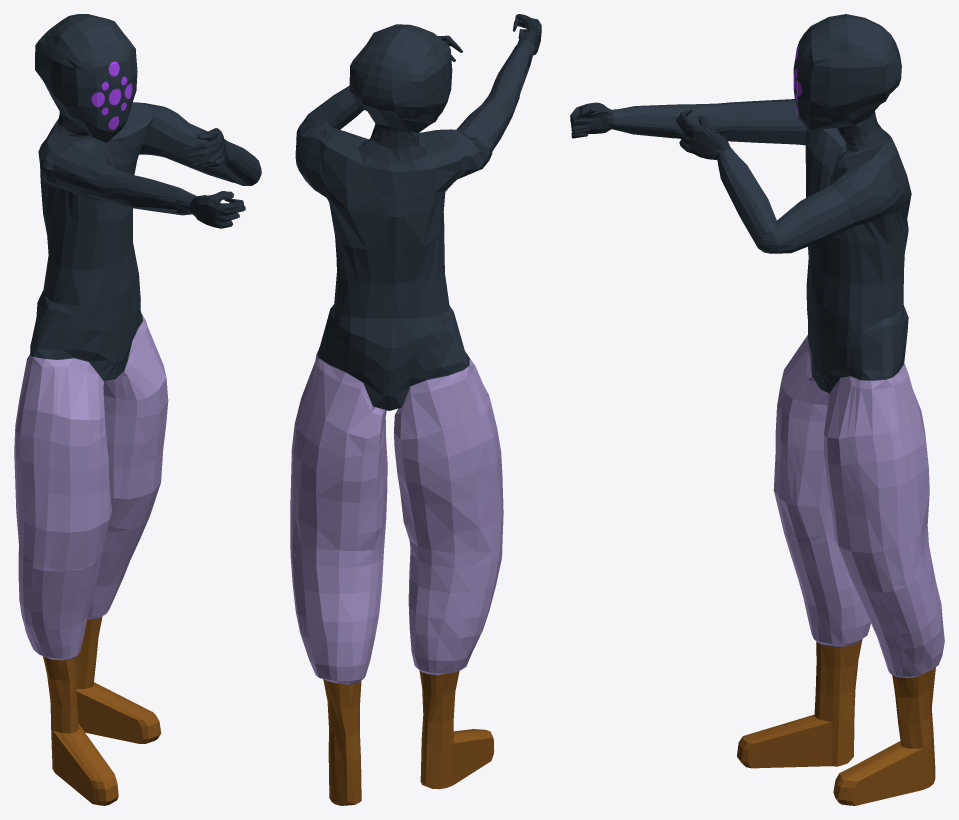
The model's file is Oracle_Attack_000013.obj.
3 views of the same model, side by side, from view 1: azimuth 30°, elevation 25°; view 2: azimuth 150°, elevation 25°; view 3: azimuth 270°, elevation 25° (orthographic). The views are drawn at different scales.
Visible parts, largest first — view 1: Cube; view 2: Cube; view 3: Cube.
Part boxes in pixels (x1,y1,x2,y2): Cube: [14, 14, 261, 805]; Cube: [290, 14, 541, 805]; Cube: [570, 14, 944, 805].
Bounding box in the file's own units: 1.2 × 3.94 × 1.76.
